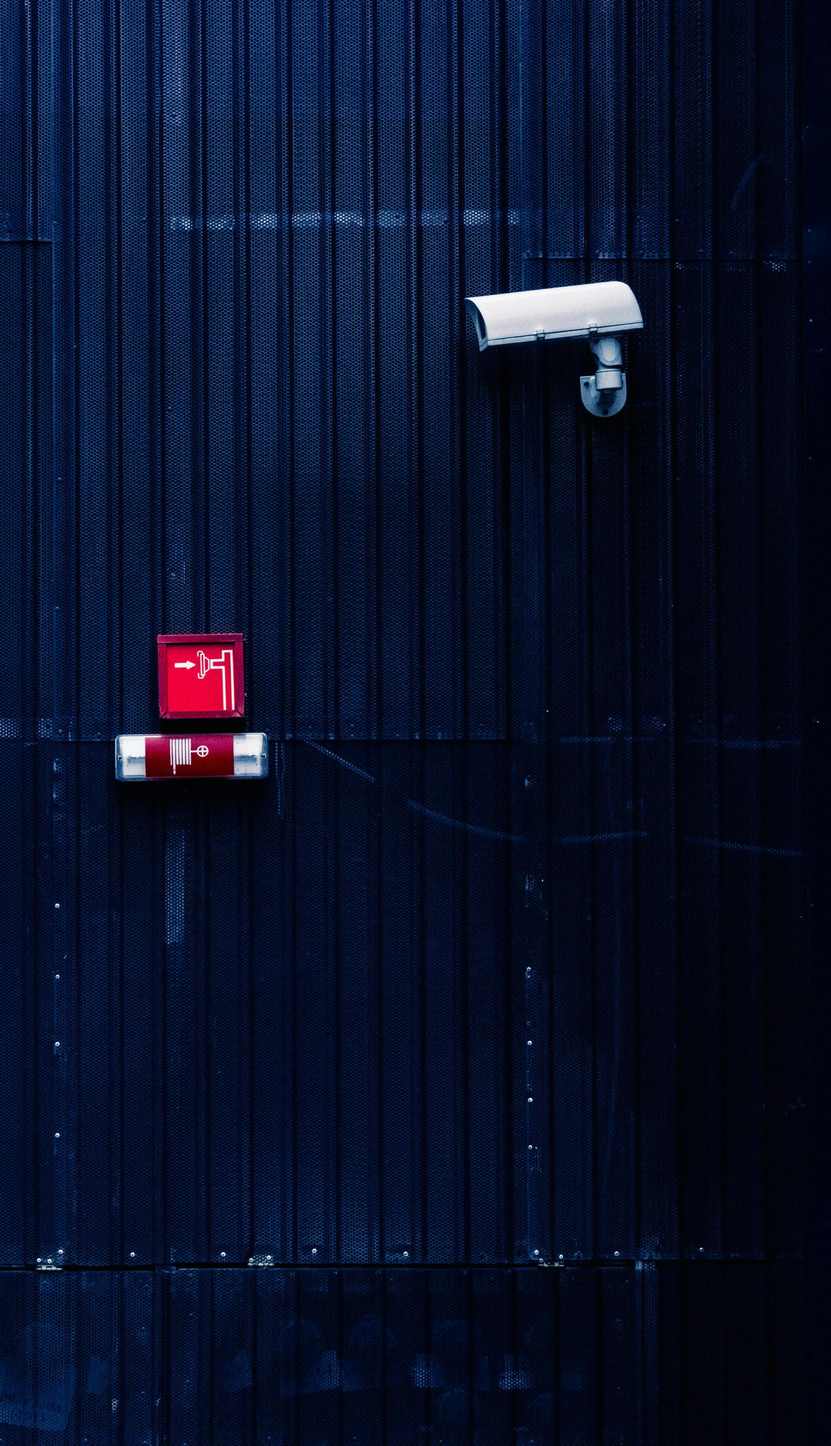camera: (404, 190, 704, 471)
